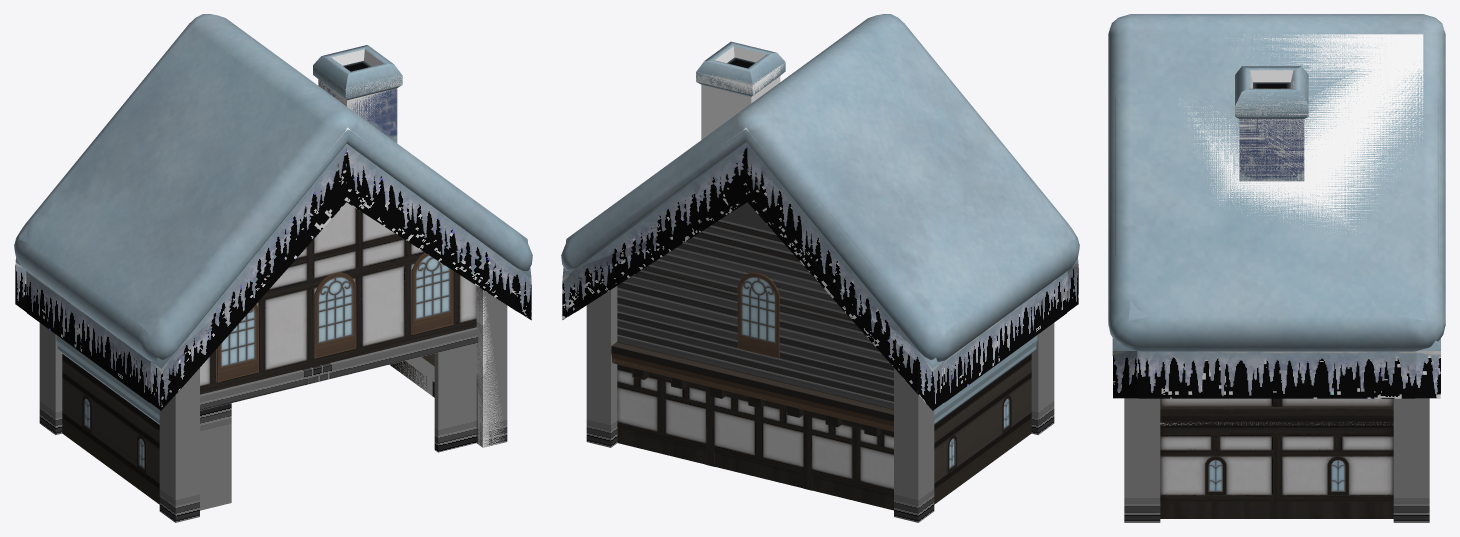
File: objects_un_t08house01_shop.gltf
3 renders of one model, left to right at view 1: azimuth 30°, elevation 25°; view 2: azimuth 150°, elevation 25°; view 3: azimuth 270°, elevation 25°, orthographic. The views are drawn at different scales.
Parts seen in each view (by area): view 1: um_objects_un_t08house01_shop_model_lod0Shape:objects_un_t08 (×6), um_objects_un_t08house01_shop_model_lod1Shape:objects_un_t08 (×3), um_objects_un_t08house01_shop_model_lod2Shape:objects_un_t08 (×4), nomerge_behind01_shape:objects_un_behind; view 2: um_objects_un_t08house01_shop_model_lod0Shape:objects_un_t08 (×6), um_objects_un_t08house01_shop_model_lod1Shape:objects_un_t08 (×3), um_objects_un_t08house01_shop_model_lod2Shape:objects_un_t08 (×2), nomerge_behind01_shape:objects_un_behind; view 3: um_objects_un_t08house01_shop_model_lod0Shape:objects_un_t08 (×5), um_objects_un_t08house01_shop_model_lod2Shape:objects_un_t08 (×4), um_objects_un_t08house01_shop_model_lod1Shape:objects_un_t08, nomerge_behind01_shape:objects_un_behind.
Part boxes in pixels (left/top/right/bottom): um_objects_un_t08house01_shop_model_lod0Shape:objects_un_t08 (×6): left=14, top=14, right=532, bottom=522; um_objects_un_t08house01_shop_model_lod1Shape:objects_un_t08 (×3): left=56, top=153, right=476, bottom=472; um_objects_un_t08house01_shop_model_lod2Shape:objects_un_t08 (×4): left=15, top=88, right=531, bottom=504; nomerge_behind01_shape:objects_un_behind: left=85, top=256, right=448, bottom=466; um_objects_un_t08house01_shop_model_lod0Shape:objects_un_t08 (×6): left=561, top=14, right=1079, bottom=522; um_objects_un_t08house01_shop_model_lod1Shape:objects_un_t08 (×3): left=611, top=153, right=1066, bottom=494; um_objects_un_t08house01_shop_model_lod2Shape:objects_un_t08 (×2): left=562, top=144, right=1078, bottom=510; nomerge_behind01_shape:objects_un_behind: left=742, top=277, right=1008, bottom=466; um_objects_un_t08house01_shop_model_lod0Shape:objects_un_t08 (×5): left=1108, top=14, right=1445, bottom=522; um_objects_un_t08house01_shop_model_lod2Shape:objects_un_t08 (×4): left=1112, top=119, right=1440, bottom=518; um_objects_un_t08house01_shop_model_lod1Shape:objects_un_t08: left=1115, top=98, right=1438, bottom=494; nomerge_behind01_shape:objects_un_behind: left=1210, top=460, right=1343, bottom=490.
Size of what is drawn, in the model's own units: 13.15 by 11.97 by 8.81.
Materials: 7 (5 with a texture image).
